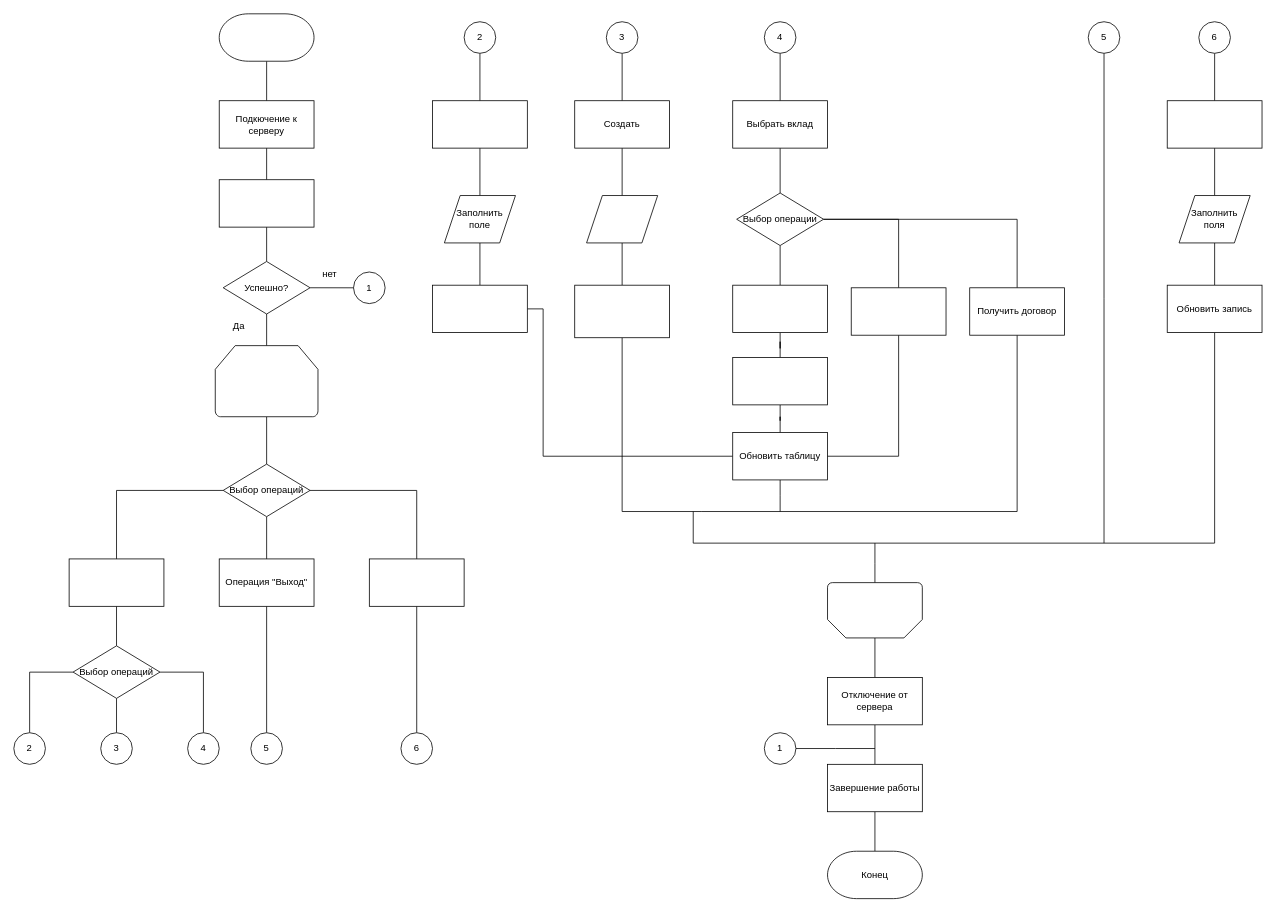
Some shapes in this 1276 by 912 pixel diagram are drawn without their labels. Each missing label, with the centre of its shape:
Авторизация: pixel 266 203
Вывести результат: pixel 780 381
Главный рабочий цикл: pixel 874 610
Главный рабочий цикл пока не выбрана операция "Выход": pixel 266 381
Добавить новую запись: pixel 622 311
Забрать вклад: pixel 898 311
Заполнить форму: pixel 622 219
Начало: pixel 266 37
Поиск: pixel 479 124
Поиск записей: pixel 479 308
Просмотр данных: pixel 1214 124
Работа с аккаунтом пользователя: pixel 416 582
Работа со вкладами: pixel 116 582
Рассчитать сумму прибыли: pixel 780 308
